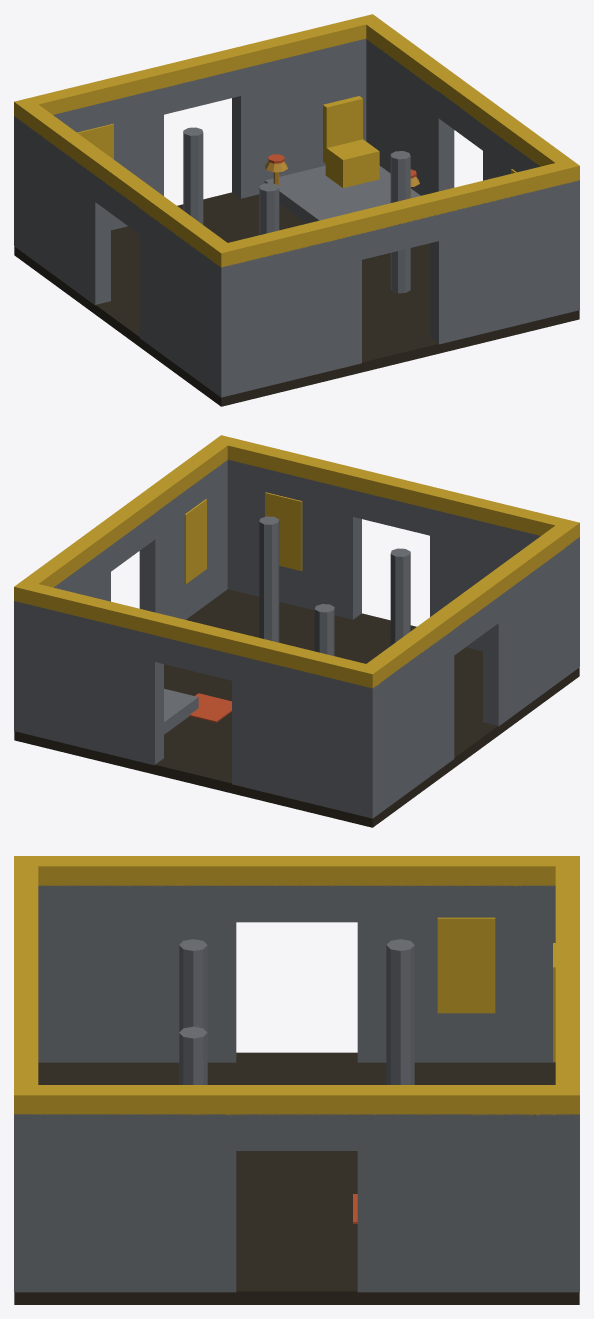
The model's file is ThroneRoomKeep.fbx.
3 renders of one model, top to bottom at view 1: azimuth 30°, elevation 25°; view 2: azimuth 150°, elevation 25°; view 3: azimuth 270°, elevation 25°, orthographic. The views are drawn at different scales.
Visible parts, largest first — view 1: ThroneRoomKeep; view 2: ThroneRoomKeep; view 3: ThroneRoomKeep.
Part boxes in pixels (x1=…): ThroneRoomKeep: x1=14, y1=14, x2=579, y2=406; ThroneRoomKeep: x1=14, y1=435, x2=579, y2=827; ThroneRoomKeep: x1=14, y1=856, x2=579, y2=1304.
Size of the model in its own units: 1202 by 492 by 1202.
5 materials, 5 textured.
